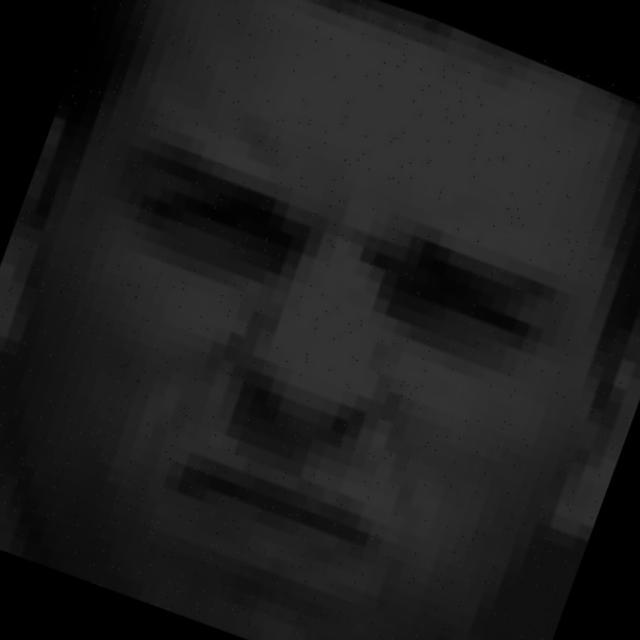Disgust: (37, 103, 619, 637)
